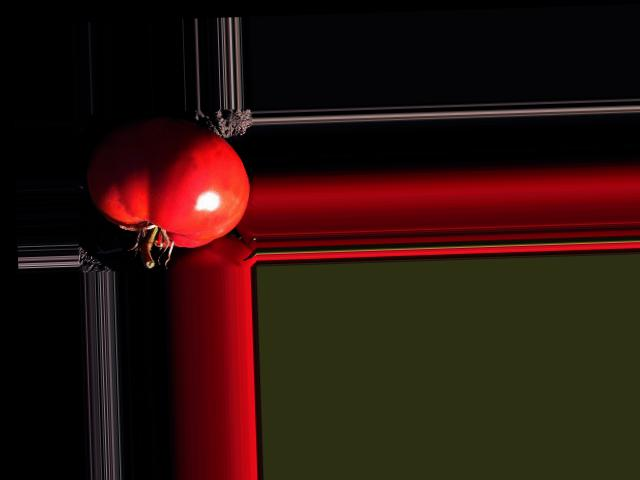tomato: (84, 113, 251, 249)
